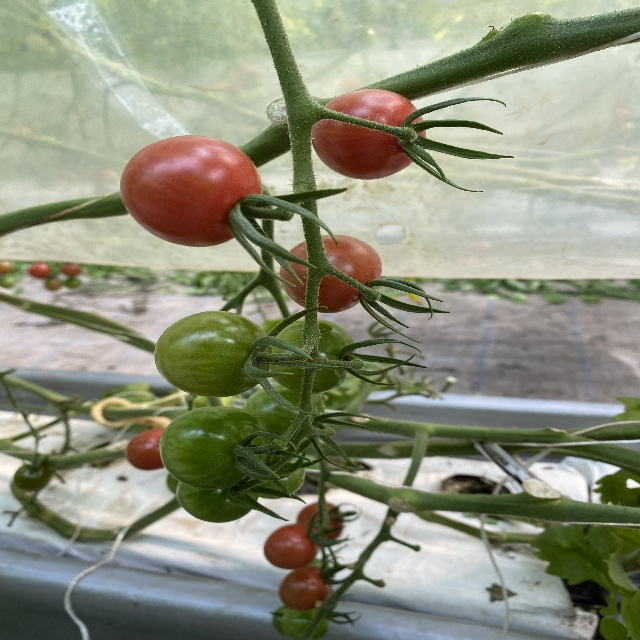l_fully_ripened: (119, 135, 263, 247), (312, 90, 426, 180), (281, 235, 382, 314)
l_green: (153, 309, 272, 398), (159, 406, 274, 490), (267, 321, 356, 393), (244, 383, 326, 447), (176, 470, 265, 523), (261, 447, 306, 498)
